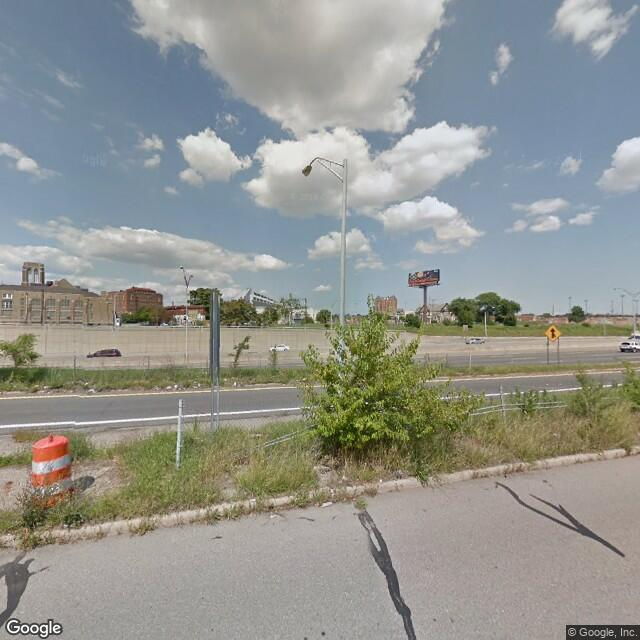litter: (168, 379, 185, 393), (270, 513, 292, 520), (320, 496, 332, 507), (42, 383, 57, 389), (86, 387, 97, 395), (298, 374, 309, 381), (153, 383, 161, 392), (165, 385, 173, 393), (230, 379, 239, 385), (378, 478, 383, 485)
